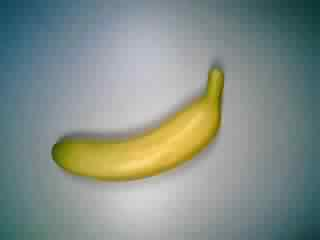banana: (47, 65, 226, 183)
